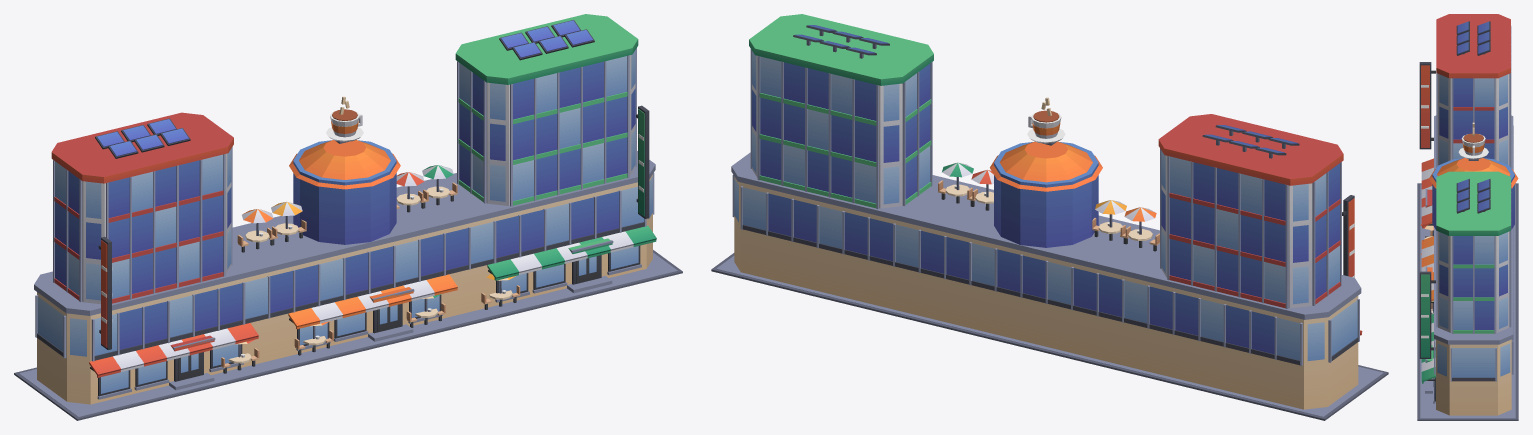
File: com_boulevard_galleria_5x1.glb
The picture shows the model from 3 angles, left to right: view 1: azimuth 30°, elevation 25°; view 2: azimuth 150°, elevation 25°; view 3: azimuth 270°, elevation 25°; orthographic projection. The views are drawn at different scales.
Visible parts, largest first — view 1: com_boulevard_galleria_5x1; view 2: com_boulevard_galleria_5x1; view 3: com_boulevard_galleria_5x1.
Boxes of the visible parts, x1,y1,x2,y2 form: com_boulevard_galleria_5x1: (14,14,682,420); com_boulevard_galleria_5x1: (711,14,1388,420); com_boulevard_galleria_5x1: (1417,14,1518,420).
Bounding box in the file's own units: 9.74 × 3.62 × 1.76.
1 material, 1 textured.
